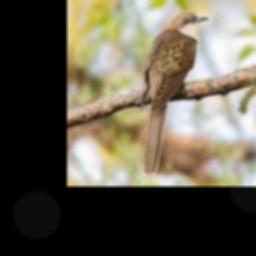Cuckoo: (141, 11, 209, 175)
